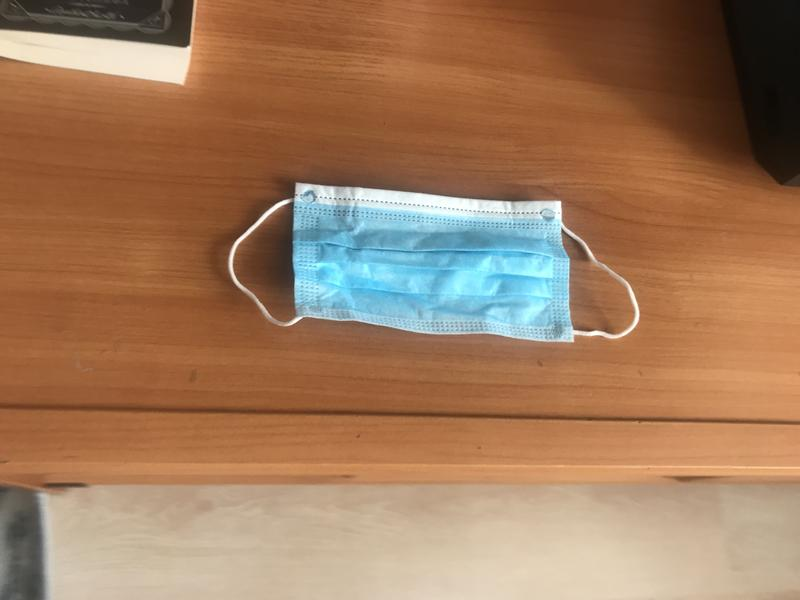medical_mask: (230, 182, 637, 342)
